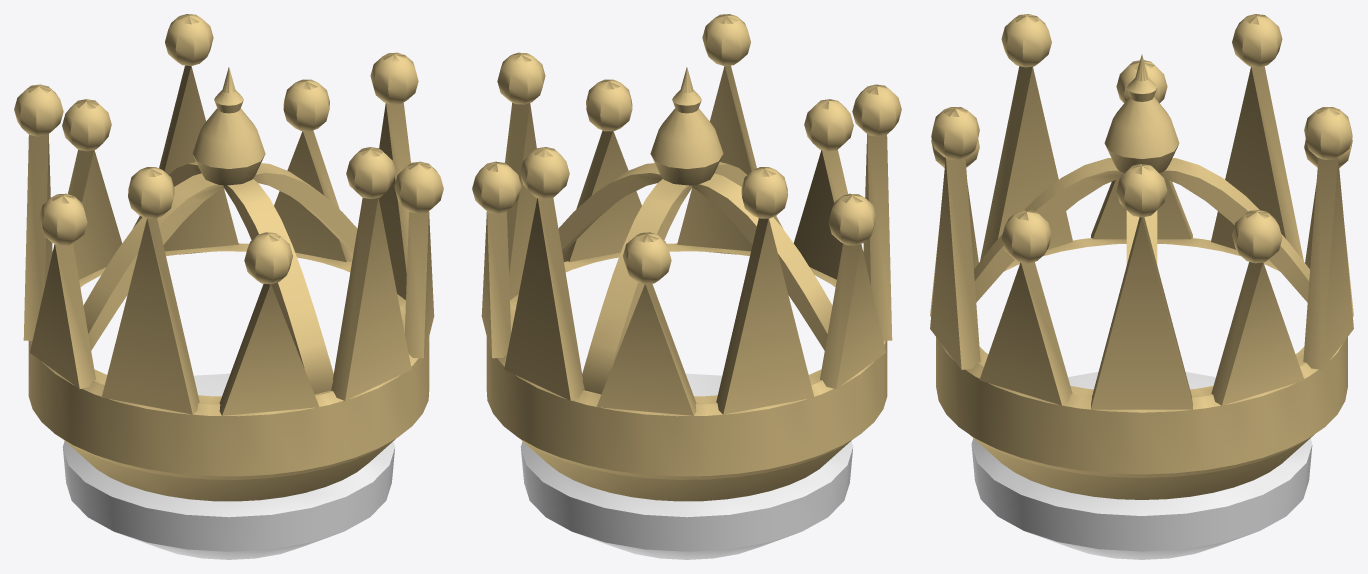
Rendered from palace_crown.glb.
The picture shows the model from 3 angles, left to right: view 1: azimuth 30°, elevation 25°; view 2: azimuth 150°, elevation 25°; view 3: azimuth 270°, elevation 25°; orthographic projection. The views are drawn at different scales.
Parts seen in each view (by area): view 1: palace_crown_CL_Gilt, palace_crown_CL_Copper; view 2: palace_crown_CL_Gilt, palace_crown_CL_Copper; view 3: palace_crown_CL_Gilt, palace_crown_CL_Copper.
Part boxes in pixels (<box>): palace_crown_CL_Gilt: <box>14,14,443,501</box>; palace_crown_CL_Copper: <box>62,373,395,559</box>; palace_crown_CL_Gilt: <box>472,14,901,501</box>; palace_crown_CL_Copper: <box>520,373,853,559</box>; palace_crown_CL_Gilt: <box>930,14,1353,499</box>; palace_crown_CL_Copper: <box>971,372,1312,559</box>.
Bounding box in the file's own units: 4.68 × 5.48 × 4.48.
